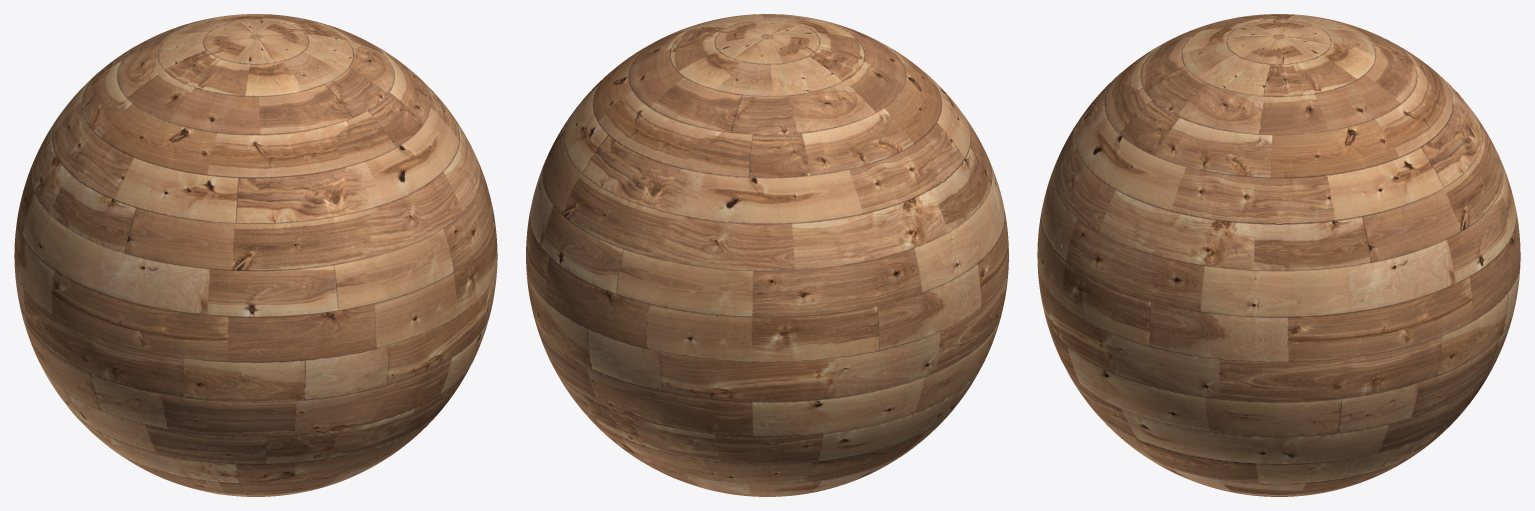
File: wooden_floor_02_1k.gltf
3 renders of one model, left to right at view 1: azimuth 30°, elevation 25°; view 2: azimuth 150°, elevation 25°; view 3: azimuth 270°, elevation 25°, orthographic.
Parts seen in each view (by area): view 1: sphere_gltf; view 2: sphere_gltf; view 3: sphere_gltf.
Part boxes in pixels (x1,y1,x2,y2): sphere_gltf: (14,14,497,496); sphere_gltf: (526,14,1008,496); sphere_gltf: (1037,14,1520,496).
Bounding box in the file's own units: 1.94 × 1.94 × 1.94.
Materials: 1 (1 with a texture image).
